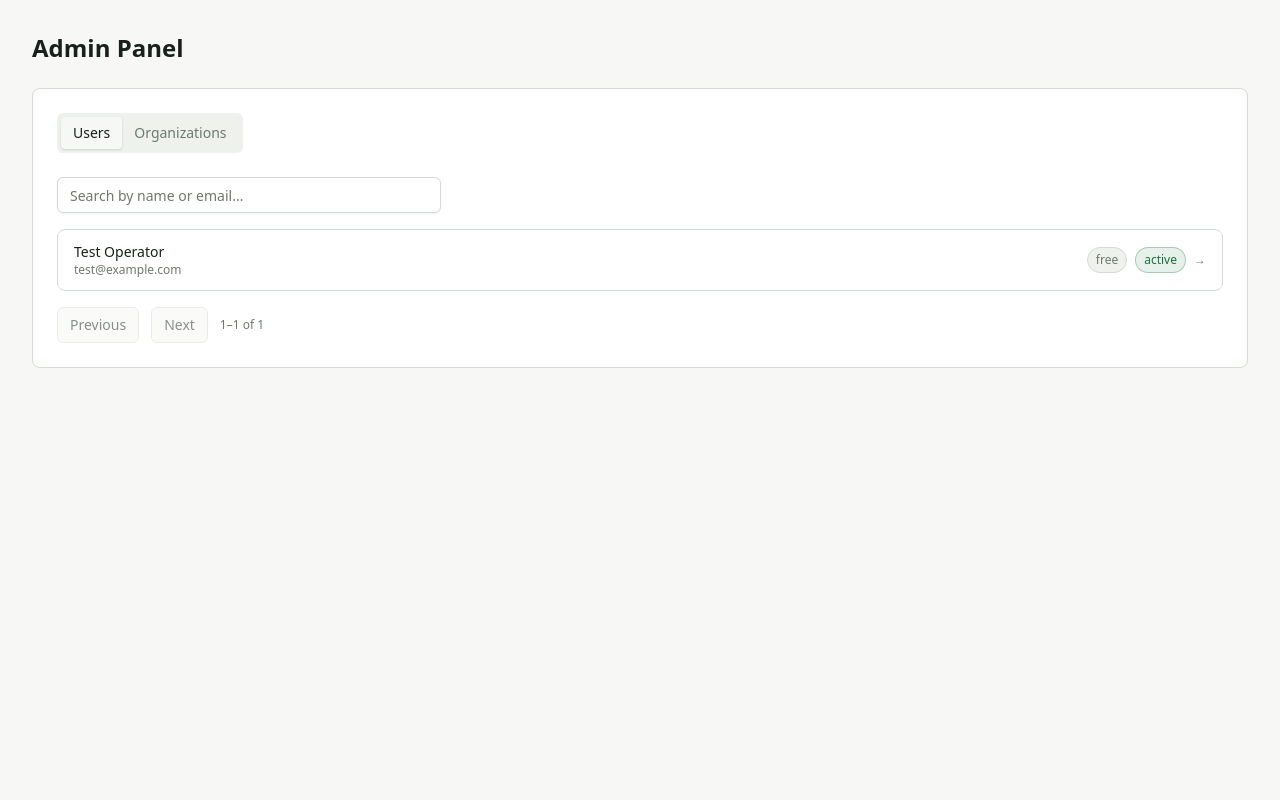
it: New club form › refuses to submit a limit that is not a usable number
Click the tab "Organizations" at {"x": 180, "y": 133}, box [122, 117, 238, 149]
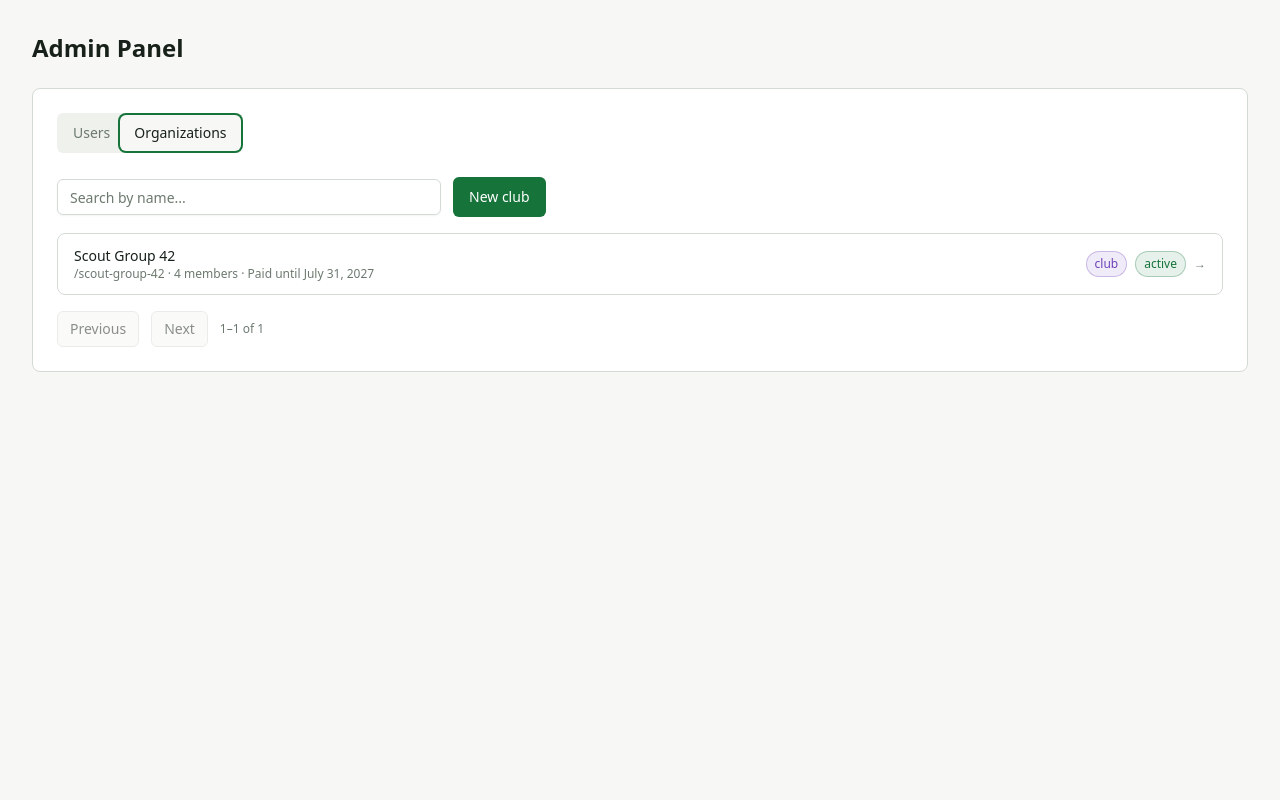
Click the button with test id "admin-new-club" at {"x": 499, "y": 197}, box [453, 177, 546, 217]
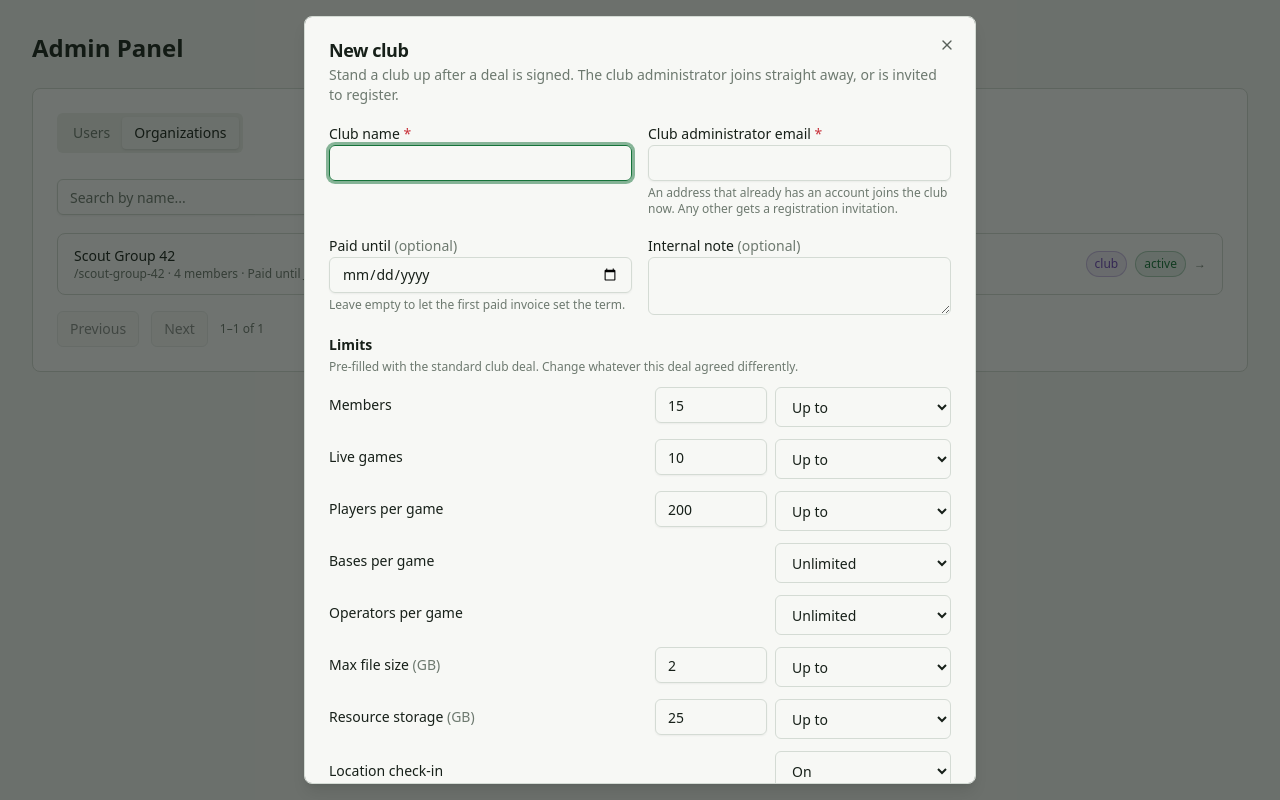
Type "Scout Group 7" into the field with test id "new-club-name" at {"x": 480, "y": 163}, box [329, 145, 632, 181]
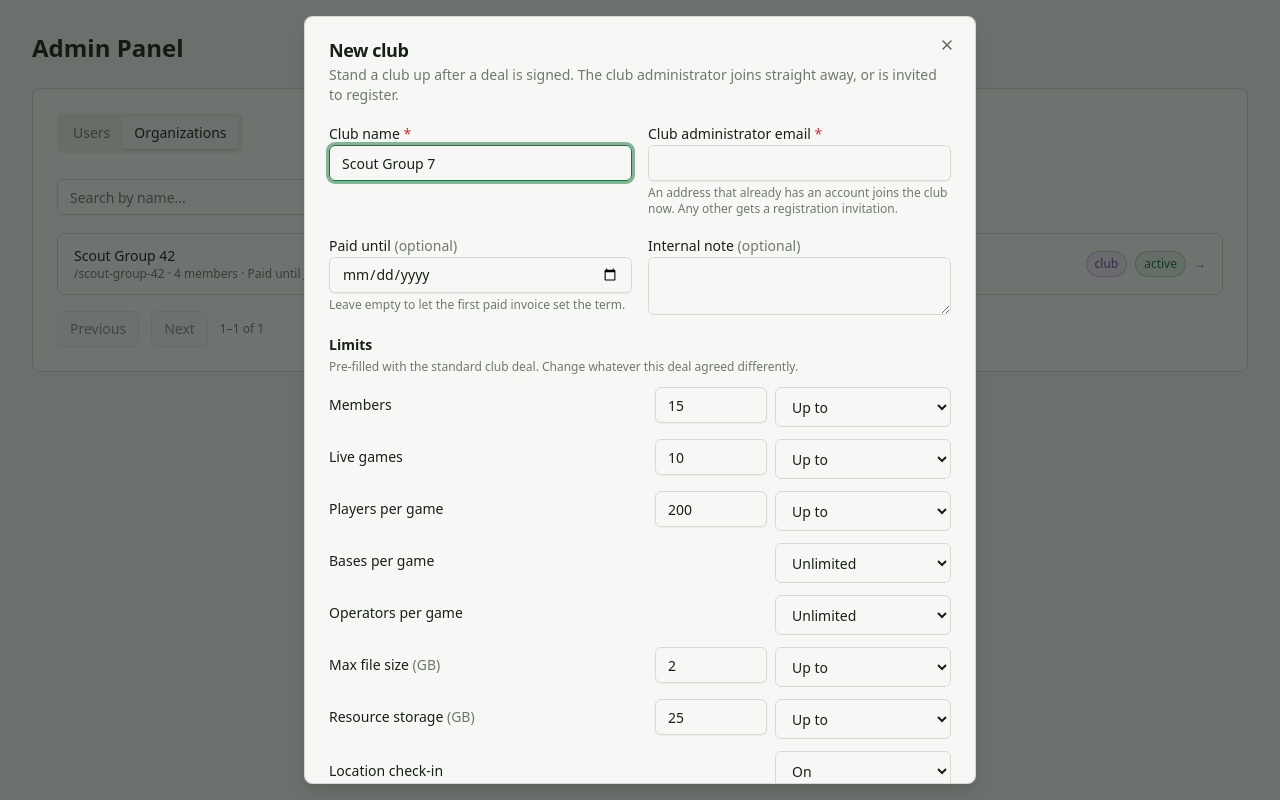
Type "chief@example.com" into the field with test id "new-club-admin-email" at {"x": 800, "y": 163}, box [648, 145, 951, 181]
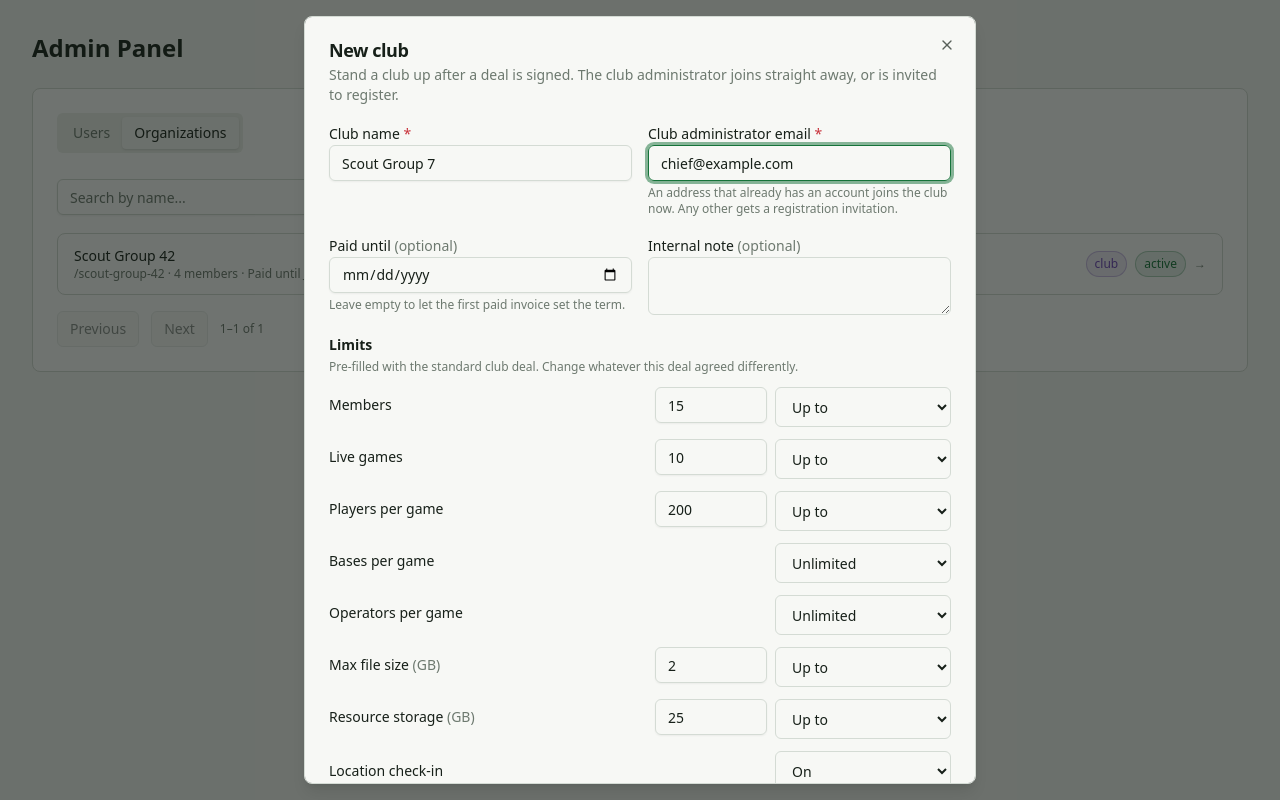
Clear the number field with test id "club-limit-max_members-value" at {"x": 711, "y": 405}, box [655, 387, 767, 423]
(page scrolled)
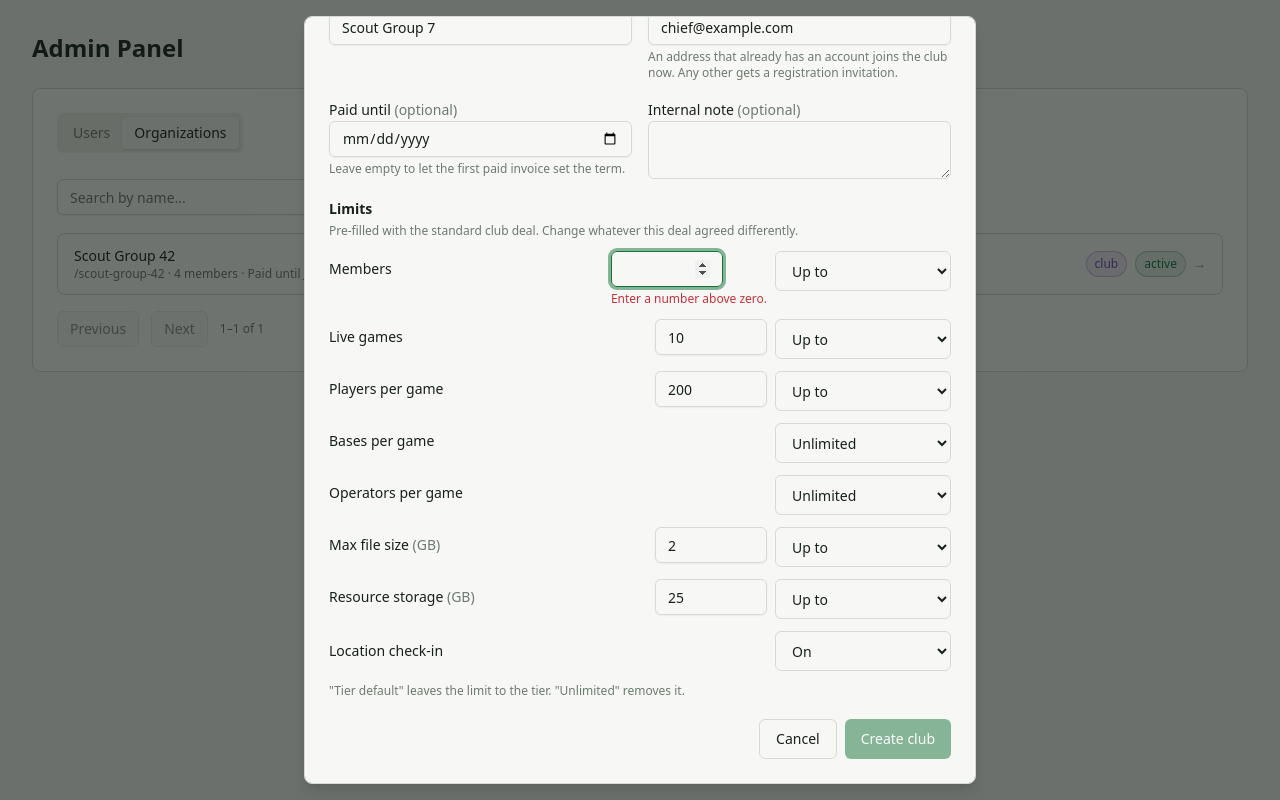
Check: the button with test id "new-club-submit" is disabled, box [845, 719, 951, 759]
